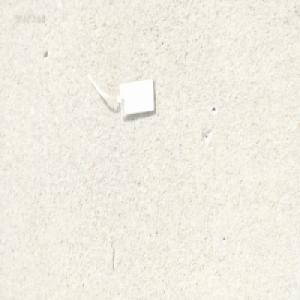LuggageTag: (84, 70, 155, 120)
